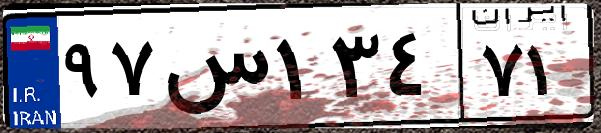1: (270, 28, 330, 110), (525, 38, 570, 115)
3: (330, 28, 385, 110)
4: (385, 28, 445, 110)
7: (475, 38, 525, 113), (110, 28, 158, 98)
9: (57, 26, 110, 100)
س: (158, 20, 270, 120)
